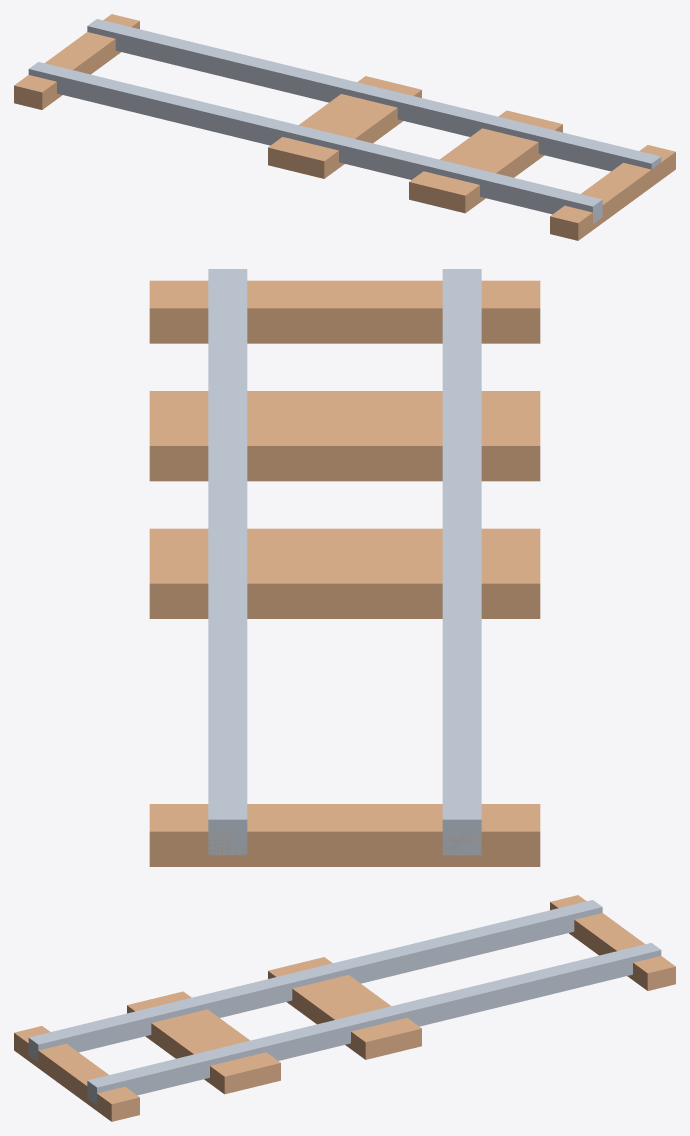
File: straight_1-2-3-_.dae
3 views of the same model, one above another, from view 1: azimuth 30°, elevation 25°; view 2: azimuth 150°, elevation 25°; view 3: azimuth 270°, elevation 25° (orthographic). The views are drawn at different scales.
Parts seen in each view (by area): view 1: Rails Straight, Beats Straight 01; view 2: Beats Straight 01, Rails Straight; view 3: Rails Straight, Beats Straight 01.
Part boxes in pixels (<box>): Rails Straight: <box>28,19,661,223</box>; Beats Straight 01: <box>14,14,675,240</box>; Beats Straight 01: <box>149,280,540,866</box>; Rails Straight: <box>208,269,481,855</box>; Rails Straight: <box>28,900,661,1104</box>; Beats Straight 01: <box>14,895,675,1121</box>.
Size of the model in its own units: 0.7598 by 1.02 by 0.04.
